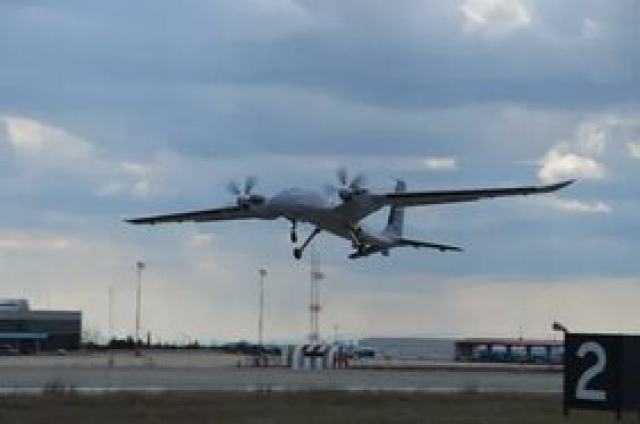military drone: (120, 164, 579, 259)
